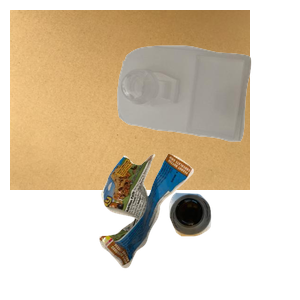cardboard: (10, 10, 250, 190)
glass: (166, 190, 300, 300)
plastic: (115, 43, 300, 177)
trash: (97, 151, 283, 300)
